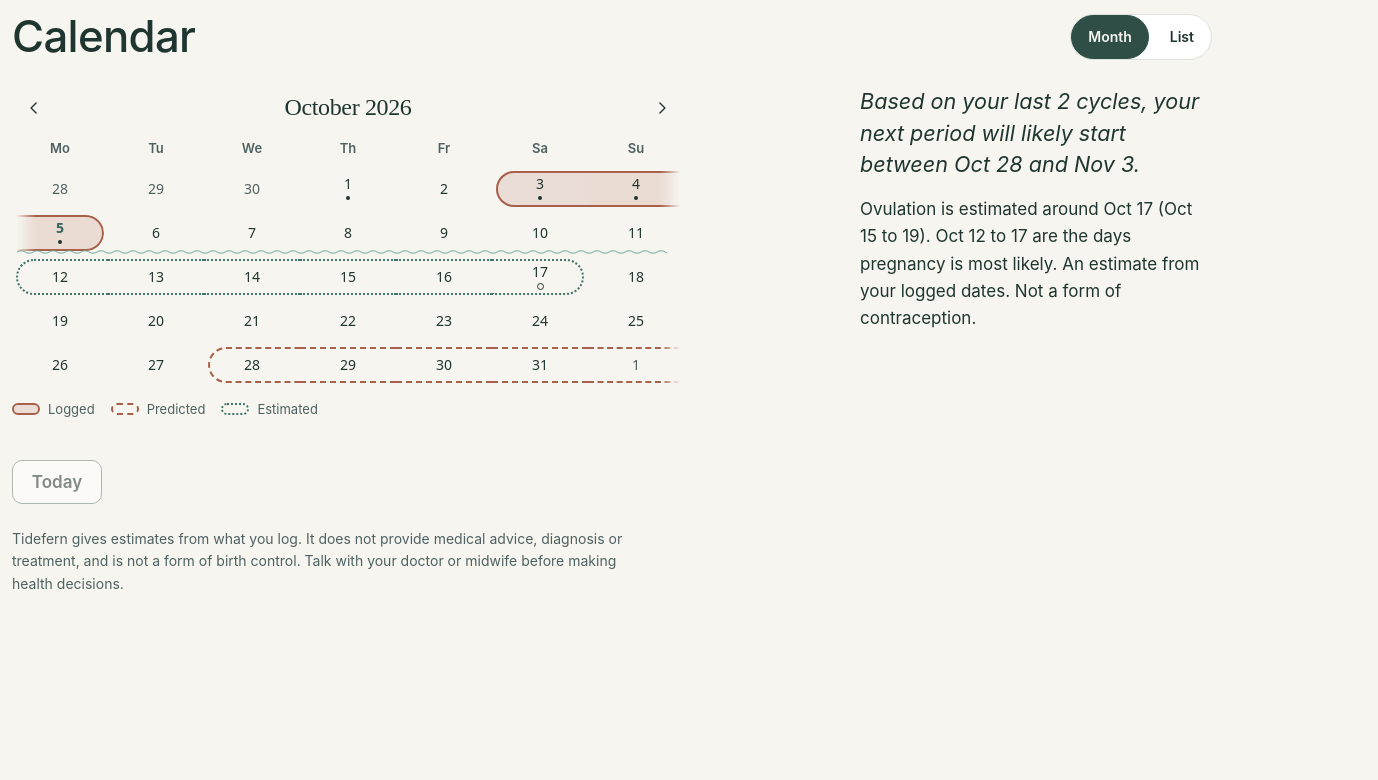
it: the month view › opens no sheet for a day that has not come, and says why
The image size is (1378, 780).
What coordinates should you click on to do the following:
click the button named "Friday, October 30, 2026"
I would click on:
 (444, 365)
Its box is [396,343,492,387].
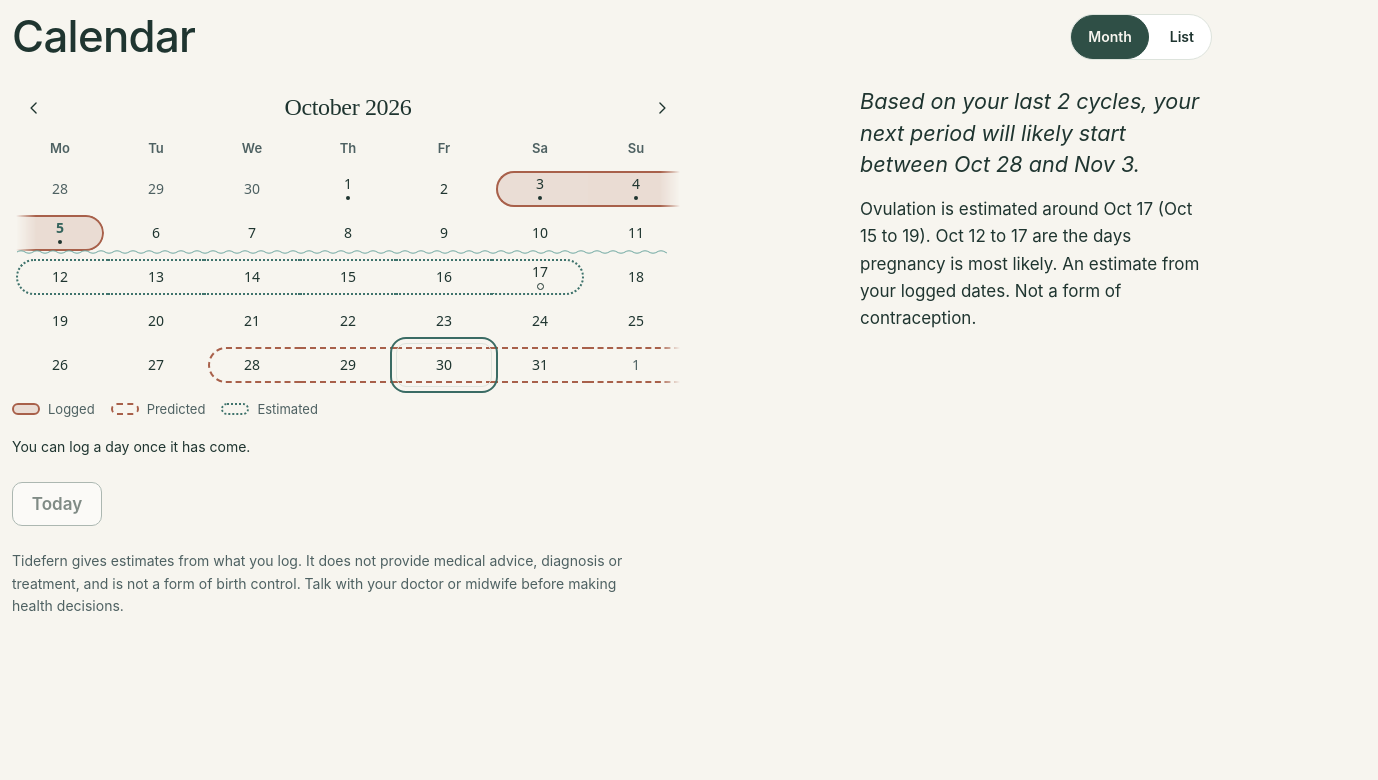
Now the text "You can log a day once it has come." is shown, box [12,438,250,455]
